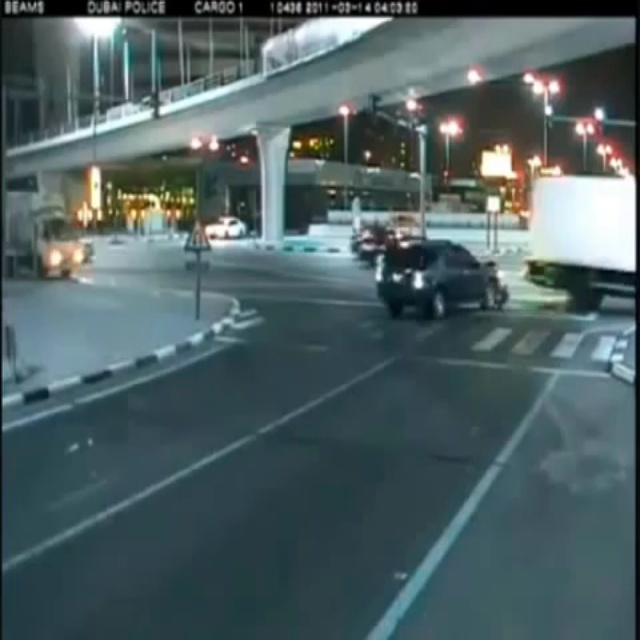acc: (363, 230, 606, 345)
